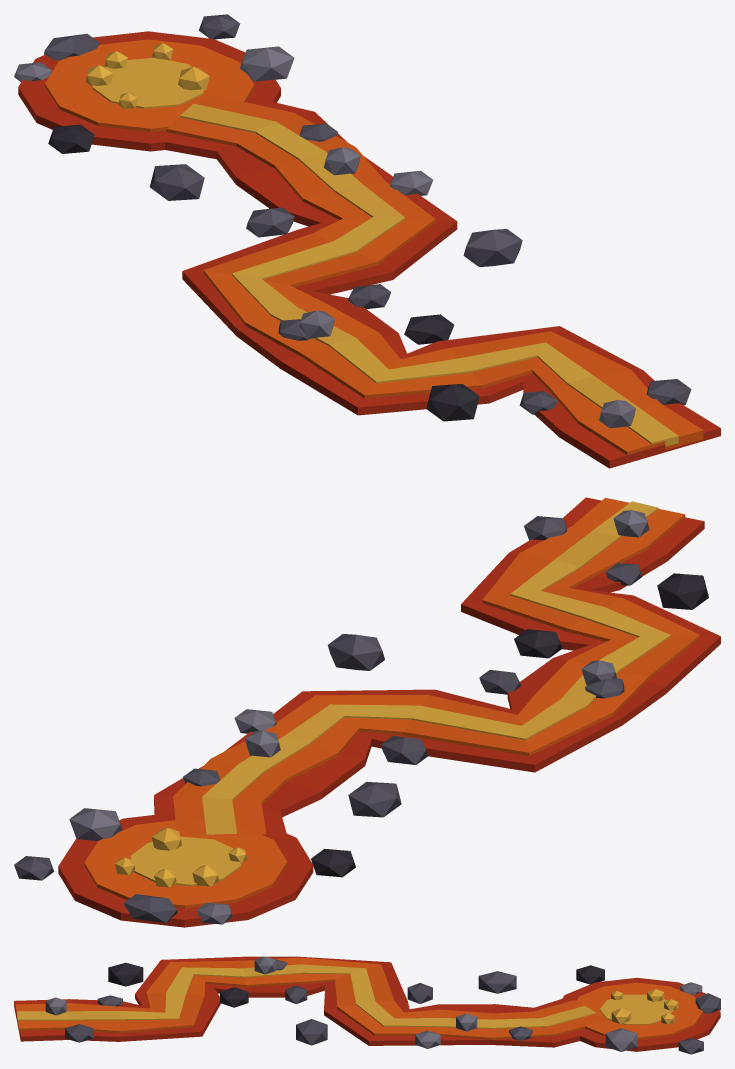
The model's file is Decor_Volcano_LavaRiver.fbx.
The picture shows the model from 3 angles, top to bottom: view 1: azimuth 30°, elevation 25°; view 2: azimuth 150°, elevation 25°; view 3: azimuth 270°, elevation 25°; orthographic projection. The views are drawn at different scales.
Parts seen in each view (by area): view 1: LavaRiver_Body; view 2: LavaRiver_Body; view 3: LavaRiver_Body.
Part boxes in pixels (x1=…): LavaRiver_Body: x1=14, y1=14, x2=720, y2=468; LavaRiver_Body: x1=14, y1=497, x2=720, y2=927; LavaRiver_Body: x1=14, y1=956, x2=720, y2=1054.
Size of the model in its own units: 14.42 by 1.6 by 45.
